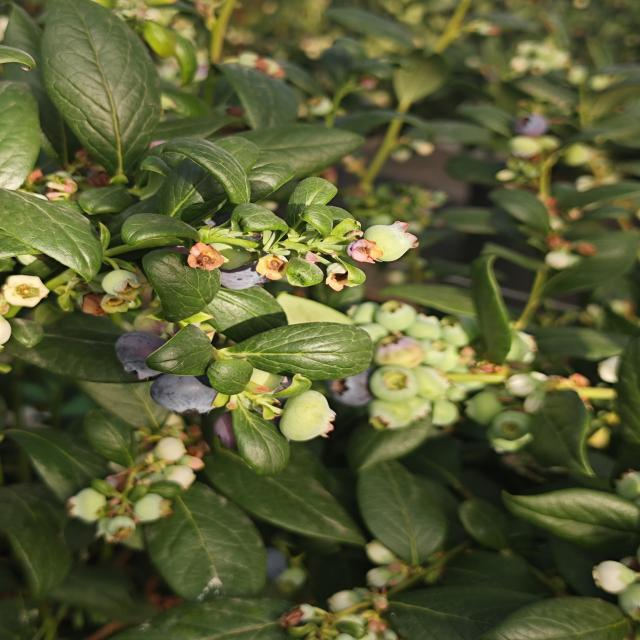ripe: (146, 371, 226, 417), (111, 330, 173, 382), (206, 247, 271, 295), (330, 361, 380, 407), (212, 412, 252, 466), (253, 537, 291, 589), (505, 110, 554, 142)
